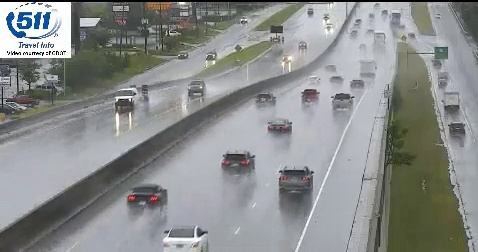car: (162, 226, 209, 252), (128, 185, 168, 211), (279, 167, 313, 193), (222, 151, 255, 174), (268, 119, 292, 135), (332, 93, 354, 110), (301, 89, 320, 103), (255, 92, 274, 106)
